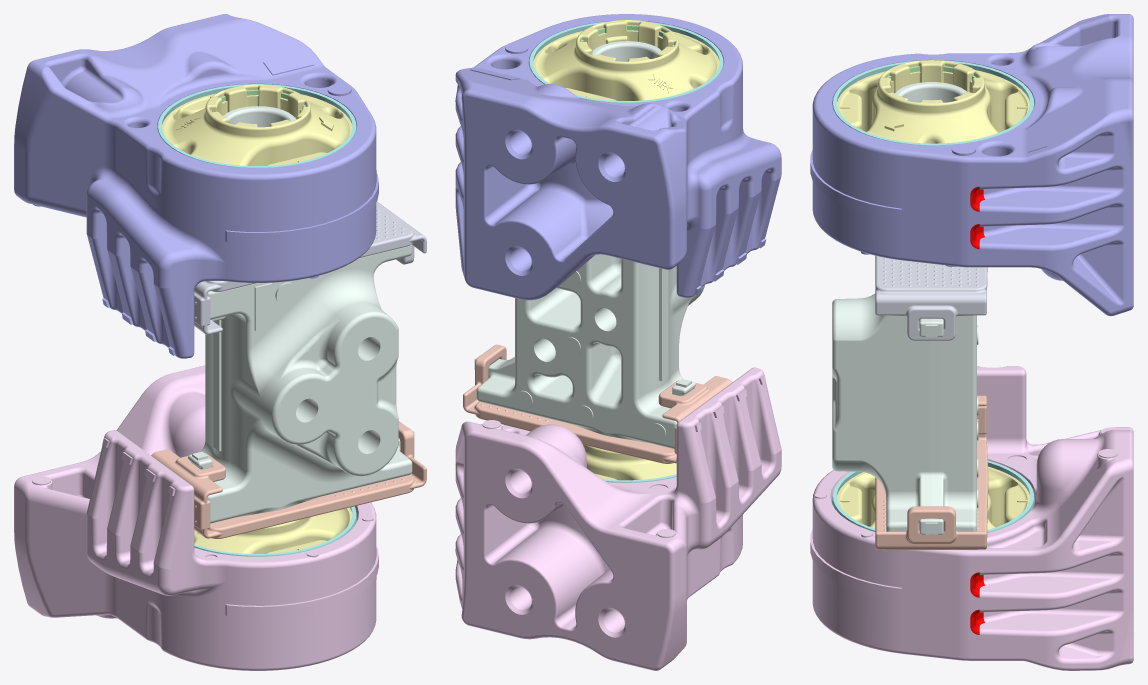
The picture shows the model from 3 angles, left to right: view 1: azimuth 30°, elevation 25°; view 2: azimuth 150°, elevation 25°; view 3: azimuth 270°, elevation 25°; orthographic projection. The views are drawn at different scales.
Visible parts, largest first — view 1: 1C0001-14-1, 1C0001-13-1, 1C0001-15-1, 1C0001-01(i‚èŒã)-1 (×2), 1C0001-02(ASSY_1)-1, 1C0001-02(ASSY_2)-1, 1C0001-11(i‚èŒã)-1 (×2); view 2: 1C0001-14-1, 1C0001-13-1, 1C0001-15-1, 1C0001-01(i‚èŒã)-1 (×2), 1C0001-02(ASSY_1)-1, 1C0001-11(i‚èŒã)-1; view 3: 1C0001-14-1, 1C0001-13-1, 1C0001-15-1, 1C0001-01(i‚èŒã)-1 (×2), 1C0001-02(ASSY_2)-1, 1C0001-02(ASSY_1)-1, 1C0001-11(i‚èŒã)-1 (×2).
Boxes of the visible parts, x1=… form: 1C0001-14-1: x1=14, y1=14, x2=378, y2=358; 1C0001-13-1: x1=14, y1=365, x2=378, y2=670; 1C0001-15-1: x1=188, y1=106, x2=414, y2=523; 1C0001-01(i‚èŒã)-1 (×2): x1=162, y1=84, x2=352, y2=553; 1C0001-02(ASSY_1)-1: x1=151, y1=421, x2=426, y2=538; 1C0001-02(ASSY_2)-1: x1=194, y1=201, x2=426, y2=334; 1C0001-11(i‚èŒã)-1 (×2): x1=157, y1=84, x2=357, y2=556; 1C0001-14-1: x1=455, y1=14, x2=781, y2=300; 1C0001-13-1: x1=455, y1=367, x2=781, y2=670; 1C0001-15-1: x1=474, y1=41, x2=704, y2=449; 1C0001-01(i‚èŒã)-1 (×2): x1=533, y1=20, x2=719, y2=480; 1C0001-02(ASSY_1)-1: x1=463, y1=344, x2=732, y2=463; 1C0001-11(i‚èŒã)-1: x1=529, y1=21, x2=723, y2=102; 1C0001-14-1: x1=810, y1=14, x2=1133, y2=316; 1C0001-13-1: x1=810, y1=366, x2=1133, y2=670; 1C0001-15-1: x1=832, y1=82, x2=978, y2=534; 1C0001-01(i‚èŒã)-1 (×2): x1=837, y1=60, x2=1029, y2=529; 1C0001-02(ASSY_2)-1: x1=875, y1=255, x2=987, y2=340; 1C0001-02(ASSY_1)-1: x1=875, y1=395, x2=988, y2=549; 1C0001-11(i‚èŒã)-1 (×2): x1=832, y1=60, x2=1034, y2=533.
Size of the model in its own units: 0.1446 by 0.2525 by 0.1333.
